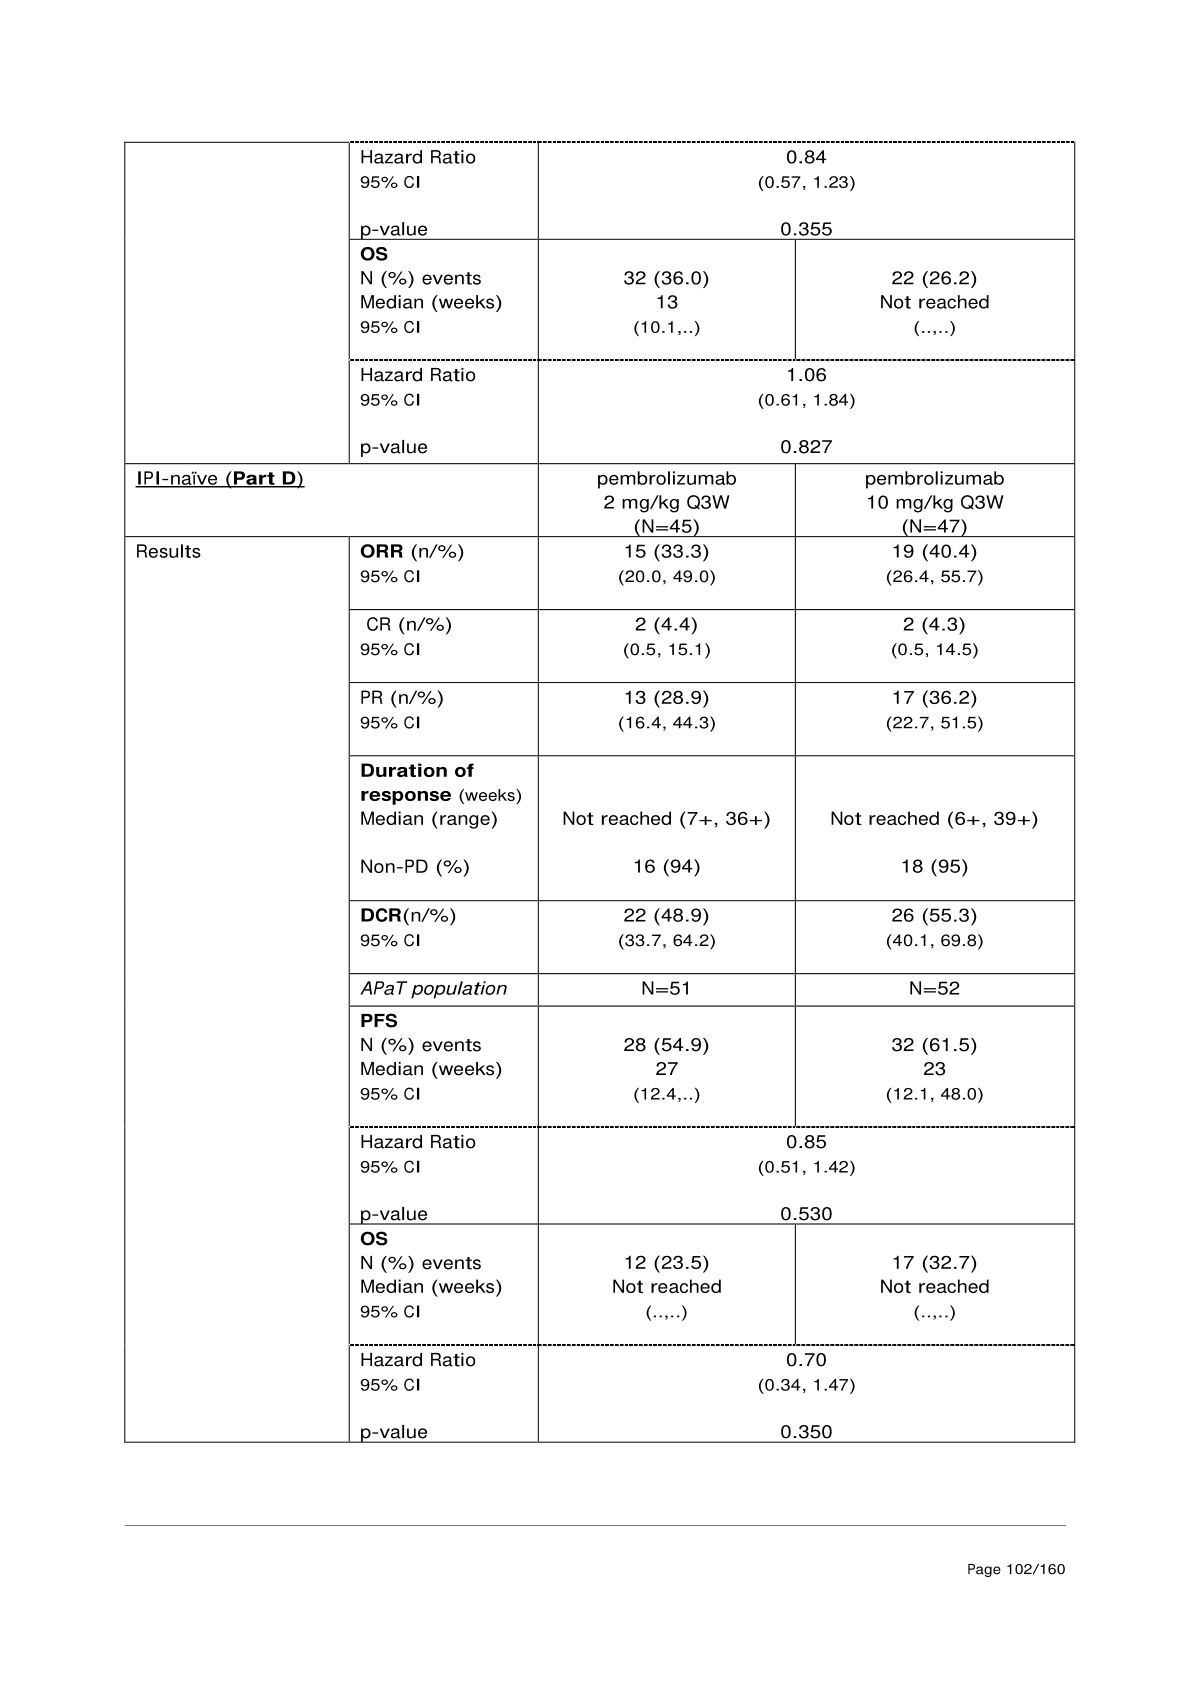merged_cells: (122, 140, 1078, 1443)
